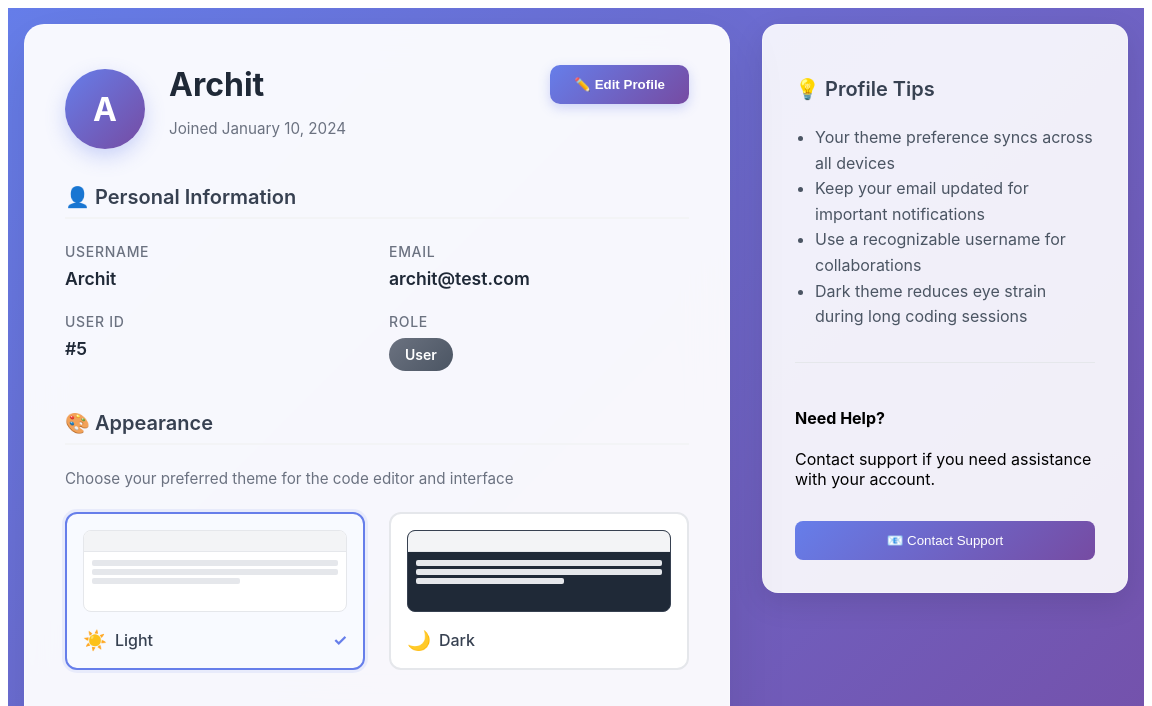
Scenario: Profile Page › shows status message on successful theme change
Click the text "Dark" at (457, 640), box [439, 630, 475, 650]
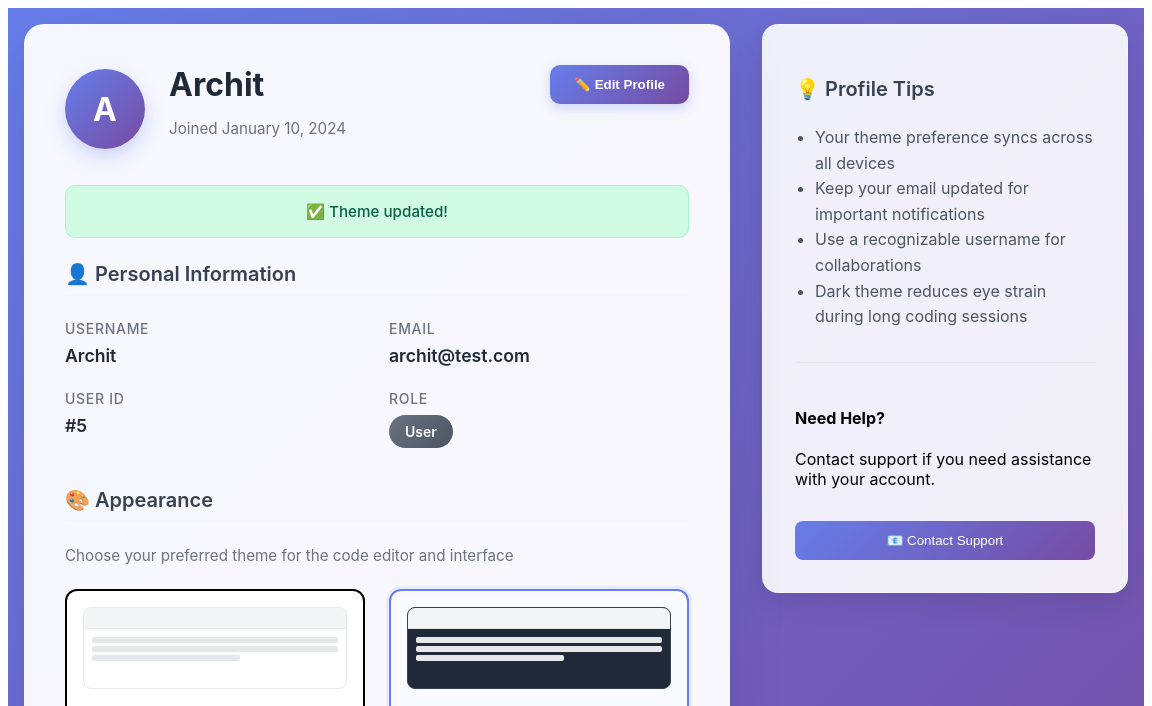
Result: the text "✅ Theme updated!" is shown at [65, 185, 689, 238]
